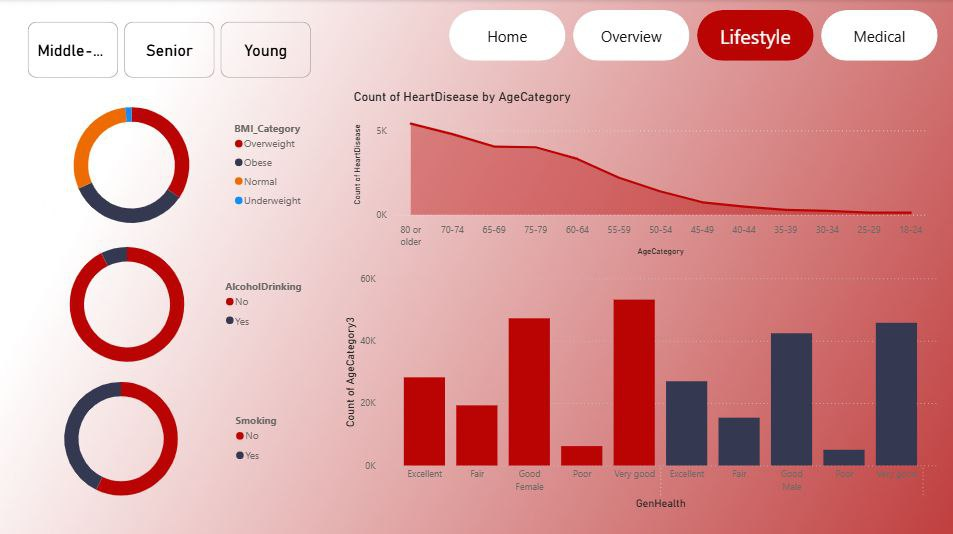

What the dashboard file says about the page in this screenshot:
{"tool":"powerbi","page":{"name":"Lifestyle","canvas":[1280,720],"ordinal":2},"visuals":[{"type":"clusteredColumnChart","fields":{"Y":["CountNonNull(Sheet1.AgeCategory3)"],"Category":["Sheet1.Sex","Sheet1.GenHealth"]},"box":[461.7,360,805,328.3],"z":0},{"type":"donutChart","fields":{"Category":["Sheet1.Smoking"],"Y":["CountNonNull(Sheet1.HeartDisease)"]},"box":[9.2,488.3,390,200],"z":1000},{"type":"donutChart","fields":{"Y":["Sheet1.countHeartDisease"],"Category":["Sheet1.BMI_Category"]},"box":[38.2,120,390,203.6],"z":2000},{"type":"donutChart","fields":{"Y":["Sheet1.countHeartDisease"],"Category":["Sheet1.AlcoholDrinking"]},"box":[38.2,308.2,390,201.8],"z":3000},{"type":"areaChart","fields":{"Category":["Sheet1.AgeCategory"],"Y":["CountNonNull(Sheet1.HeartDisease)"]},"box":[473.3,120,781.7,228.3],"z":4000},{"type":"advancedSlicerVisual","fields":{"Values":["Sheet1.AgeCategory3"]},"box":[37.2,24.8,390.3,85.5],"z":5000},{"type":"pageNavigator","box":[606.7,15,655,68.3],"z":6000}]}

Visuals, with their boxes in screenshot pixels (x1, y1, x2, y2), scaled from the page's 1280x720 canvas onto the 953x534 screenshot:
clusteredColumnChart - CountNonNull(Sheet1.AgeCategory3) x Sheet1.Sex: x1=344, y1=267, x2=943, y2=510
donutChart - Sheet1.Smoking x CountNonNull(Sheet1.HeartDisease): x1=7, y1=362, x2=297, y2=510
donutChart - Sheet1.countHeartDisease x Sheet1.BMI_Category: x1=28, y1=89, x2=319, y2=240
donutChart - Sheet1.countHeartDisease x Sheet1.AlcoholDrinking: x1=28, y1=229, x2=319, y2=378
areaChart - Sheet1.AgeCategory x CountNonNull(Sheet1.HeartDisease): x1=352, y1=89, x2=934, y2=258
advancedSlicerVisual - Sheet1.AgeCategory3: x1=28, y1=18, x2=318, y2=82
pageNavigator: x1=452, y1=11, x2=939, y2=62
